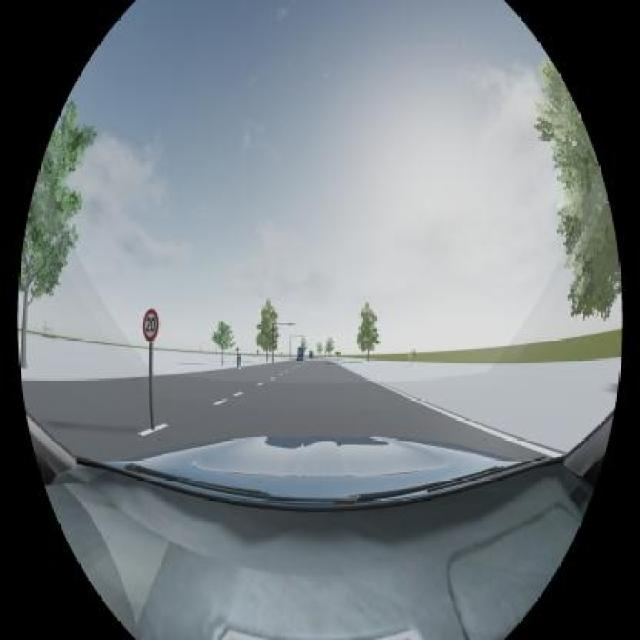forb_speed_over_20: (143, 308, 159, 342)
